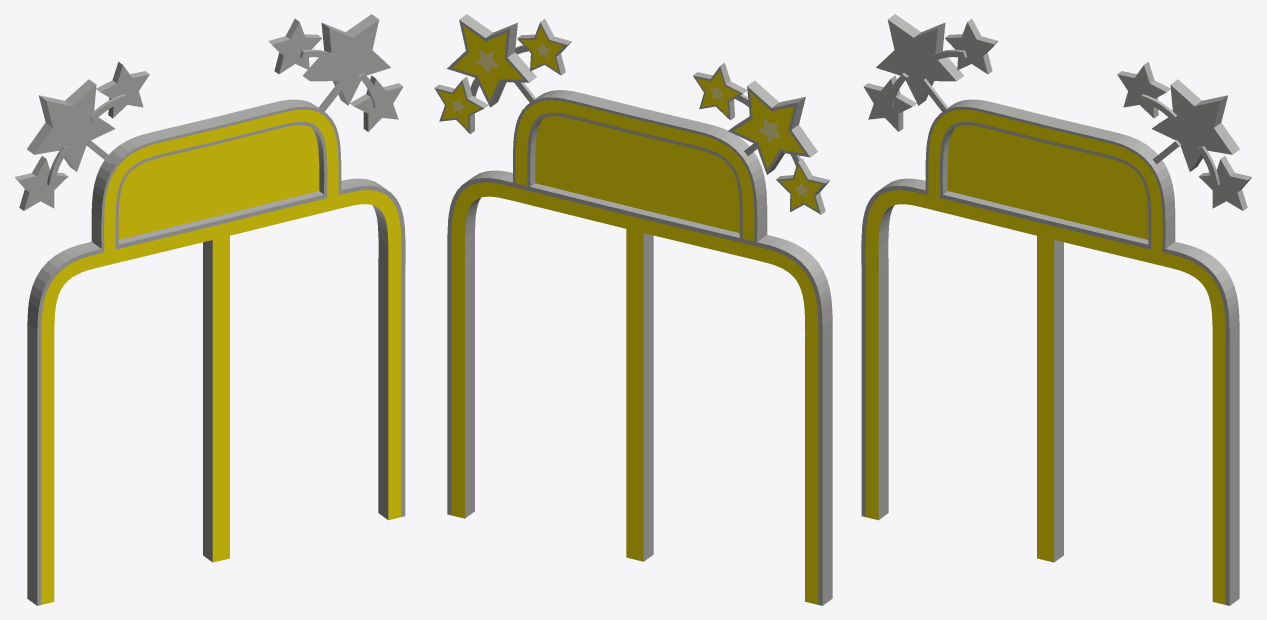
The model's file is Talent_Door.fbx.
3 views of the same model, side by side, from view 1: azimuth 30°, elevation 25°; view 2: azimuth 150°, elevation 25°; view 3: azimuth 330°, elevation 25° (orthographic).
Parts seen in each view (by area): view 1: Door_Talent_Show; view 2: Door_Talent_Show; view 3: Door_Talent_Show.
Part boxes in pixels (<box>): Door_Talent_Show: <box>15,14,405,605</box>; Door_Talent_Show: <box>434,14,832,605</box>; Door_Talent_Show: <box>861,14,1251,605</box>.
Size of the model in its own units: 898 by 1139 by 65.38.
